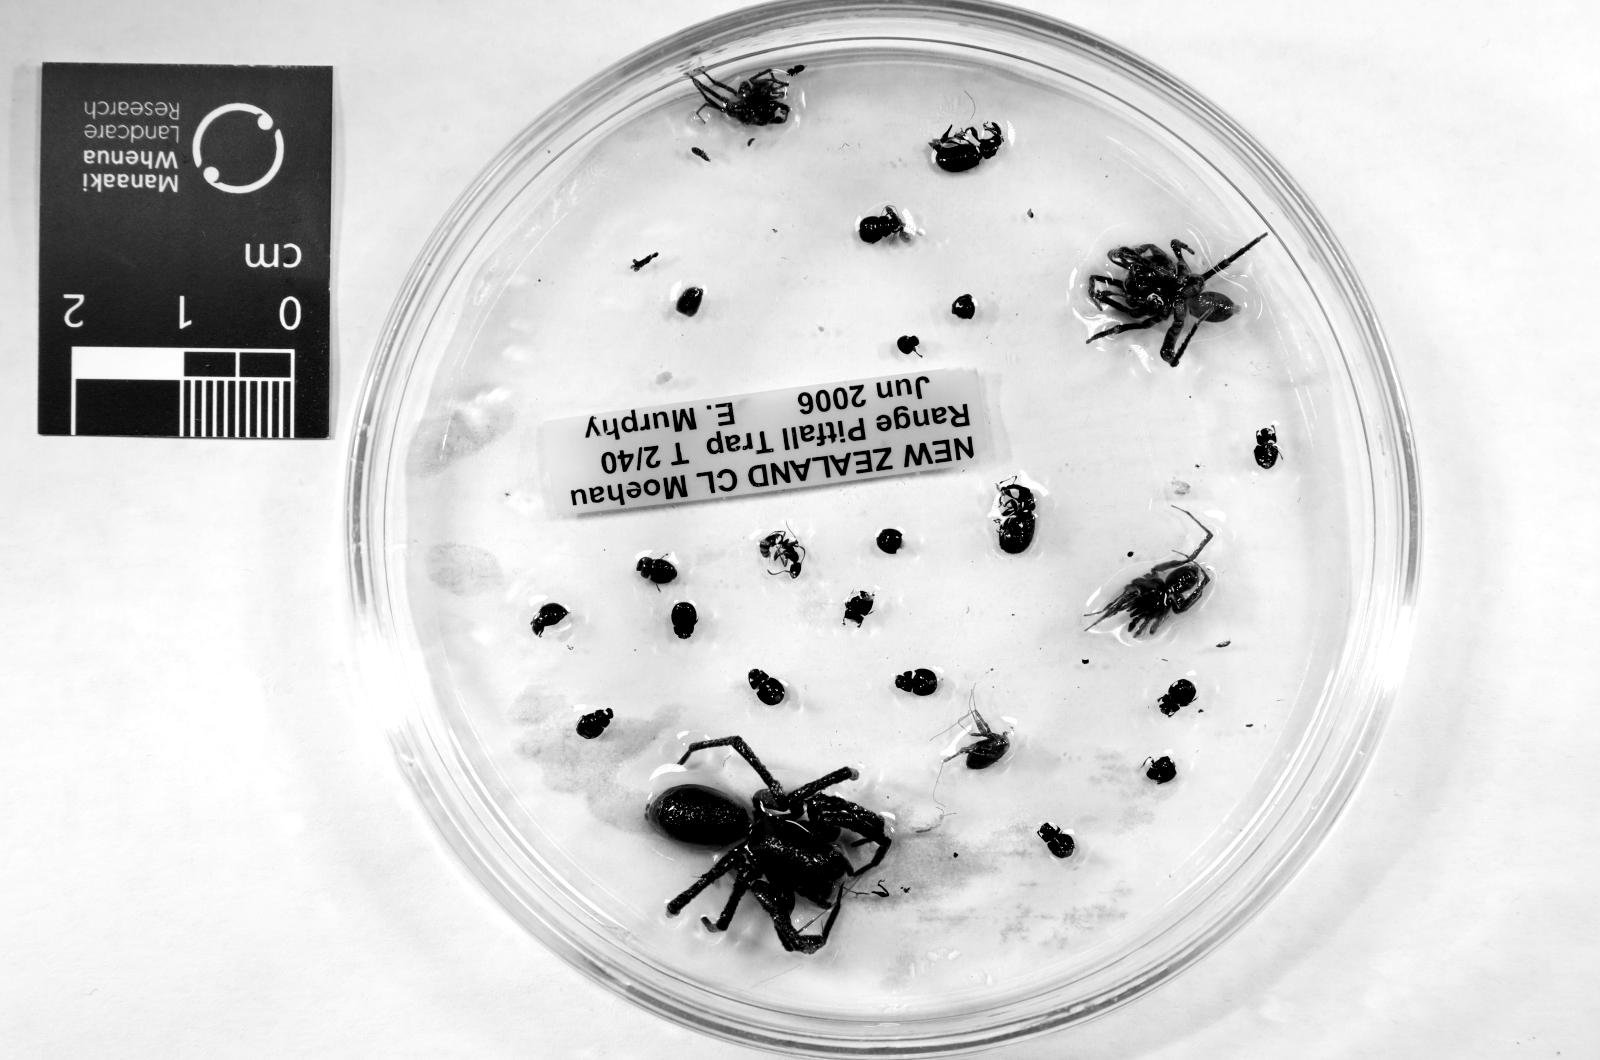araneae: (643, 736, 890, 954), (1088, 237, 1263, 367), (1088, 528, 1212, 636), (691, 69, 791, 128)
coleoptera: (931, 121, 1003, 174), (997, 485, 1035, 552), (1159, 680, 1197, 717), (1037, 823, 1075, 860), (747, 667, 784, 705), (531, 602, 569, 636), (894, 667, 938, 696), (1254, 426, 1281, 468), (860, 214, 900, 243), (637, 556, 678, 584), (578, 707, 613, 739), (672, 602, 697, 640)
formicidae: (759, 531, 807, 577)
opiliones: (953, 711, 1010, 770)
